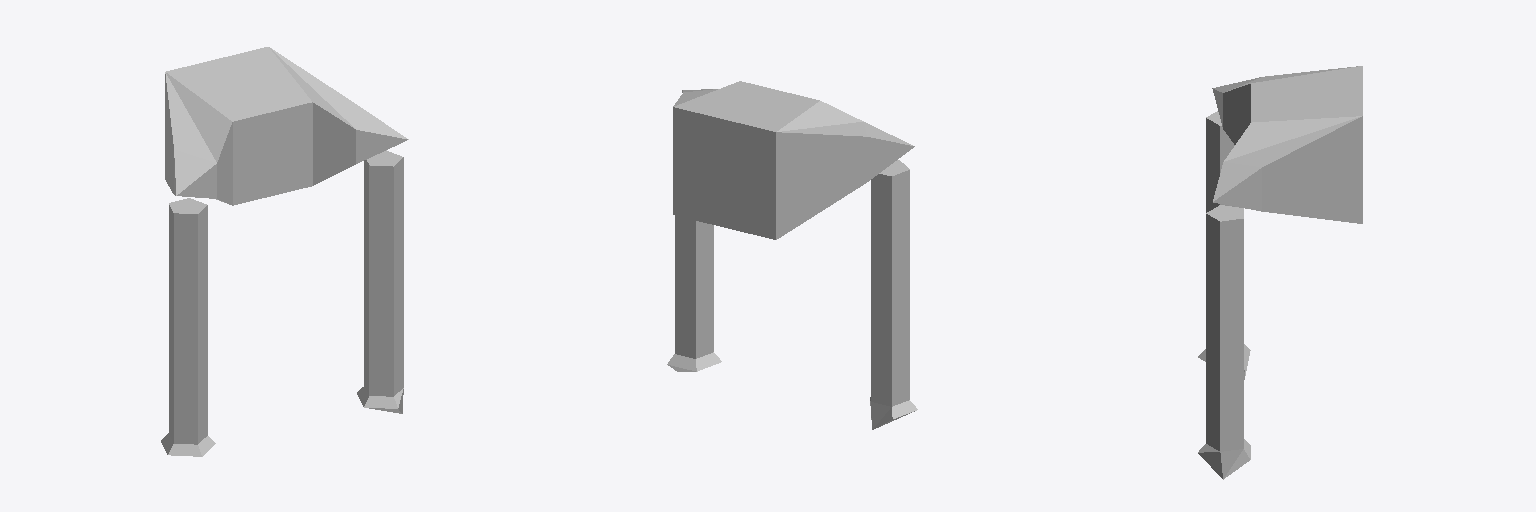
Rendered from androidHead.obj.
The picture shows the model from 3 angles: view 1: azimuth 30°, elevation 25°; view 2: azimuth 150°, elevation 25°; view 3: azimuth 270°, elevation 25°; orthographic projection.
Visible parts, largest first — view 1: Object.1, Object.3, Object.2; view 2: Object.1, Object.2, Object.3; view 3: Object.1, Object.3, Object.2.
Boxes of the visible parts, <box> form: Object.1: <box>165,47,408,205</box>; Object.3: <box>357,150,403,413</box>; Object.2: <box>161,198,215,456</box>; Object.1: <box>673,81,914,239</box>; Object.2: <box>870,160,917,429</box>; Object.3: <box>667,216,721,371</box>; Object.1: <box>1212,66,1362,223</box>; Object.3: <box>1198,205,1250,479</box>; Object.2: <box>1198,111,1250,379</box>.
Bounding box in the file's own units: 43.9 × 58.42 × 26.33.